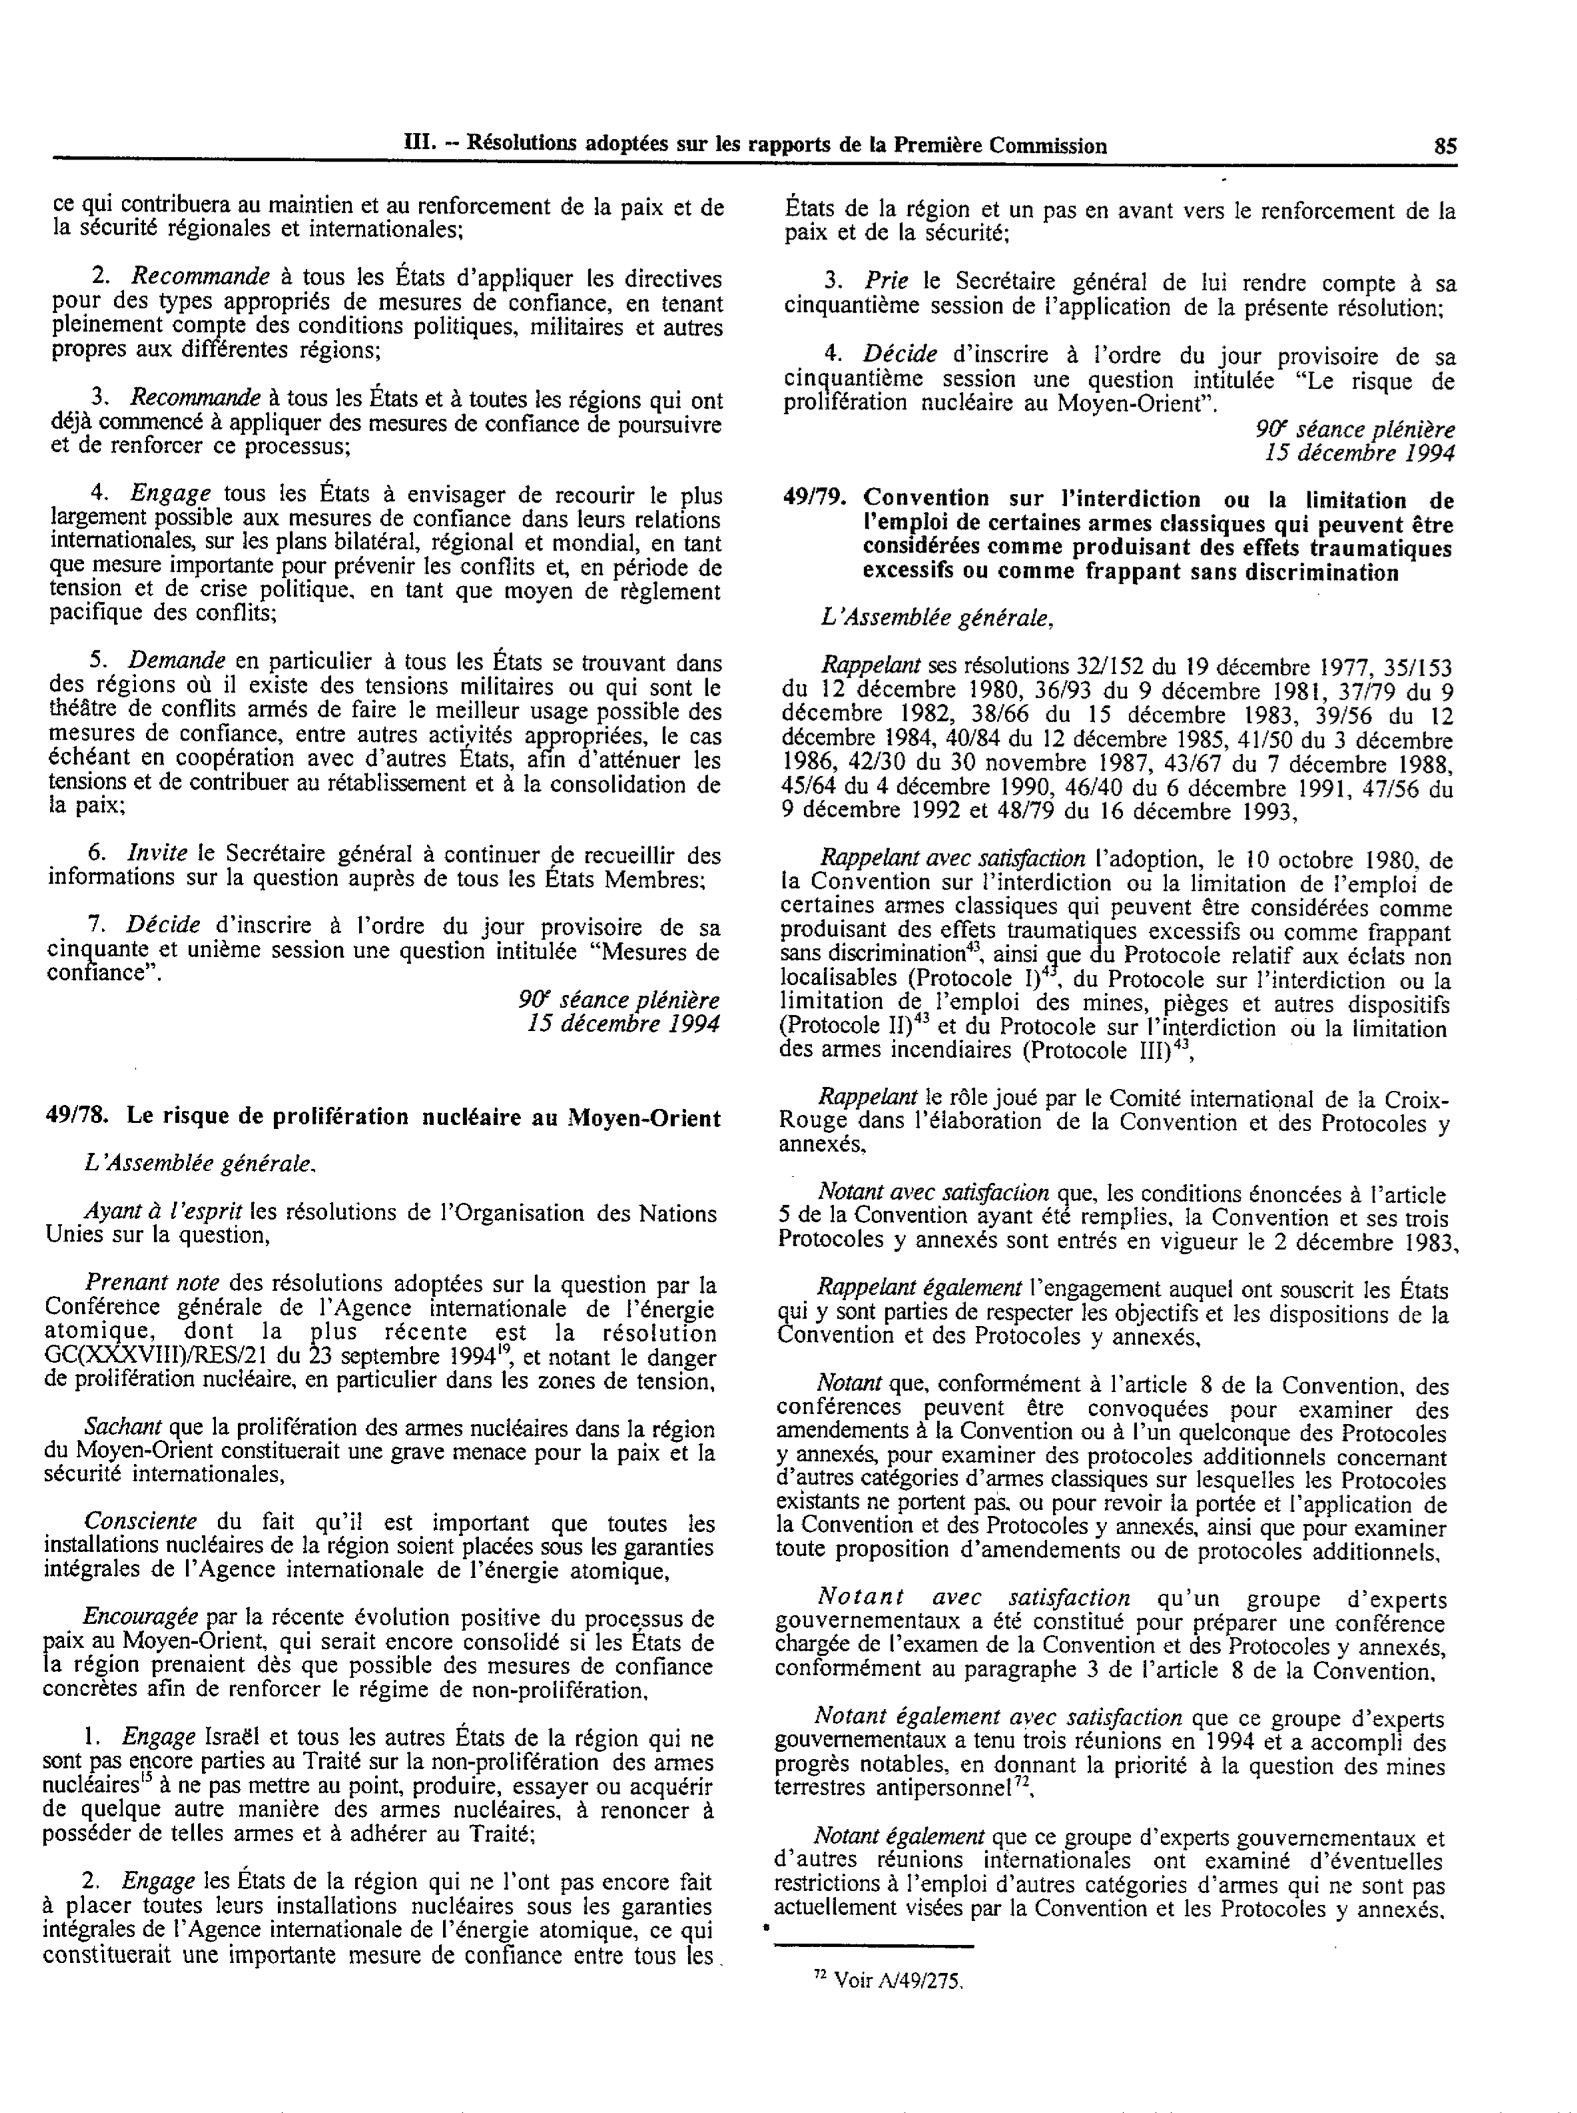MainZone-Continued: (43, 182, 733, 249), (771, 190, 1463, 255)
MainZone-Date: (518, 1015, 733, 1045), (1246, 441, 1461, 470)
MainZone-Head: (775, 478, 1460, 588), (38, 1092, 728, 1135)
MainZone-ListItem: (42, 643, 731, 821), (42, 475, 731, 631), (34, 1718, 720, 1849), (33, 1863, 726, 1978), (43, 256, 734, 370), (42, 380, 731, 464), (38, 909, 731, 992), (776, 337, 1464, 420), (773, 261, 1463, 329), (39, 834, 730, 900)
MainZone-P: (774, 842, 1458, 1068), (770, 1368, 1452, 1567), (775, 648, 1461, 828), (35, 1266, 725, 1398), (35, 1599, 724, 1707), (767, 1821, 1453, 1929), (770, 1581, 1454, 1689), (767, 1699, 1452, 1805), (771, 1175, 1458, 1261), (771, 1269, 1458, 1354), (37, 1505, 725, 1589), (37, 1411, 723, 1493), (770, 1082, 1455, 1164), (37, 1193, 729, 1257), (804, 596, 1062, 638), (69, 1144, 327, 1185)
MainZone-Signature: (492, 982, 730, 1018), (1240, 414, 1462, 443)
MarginTextZone-Notes: (802, 1960, 970, 2000)
StampZone: (394, 122, 1116, 172)
TitlePageZone: (1429, 129, 1463, 167)
